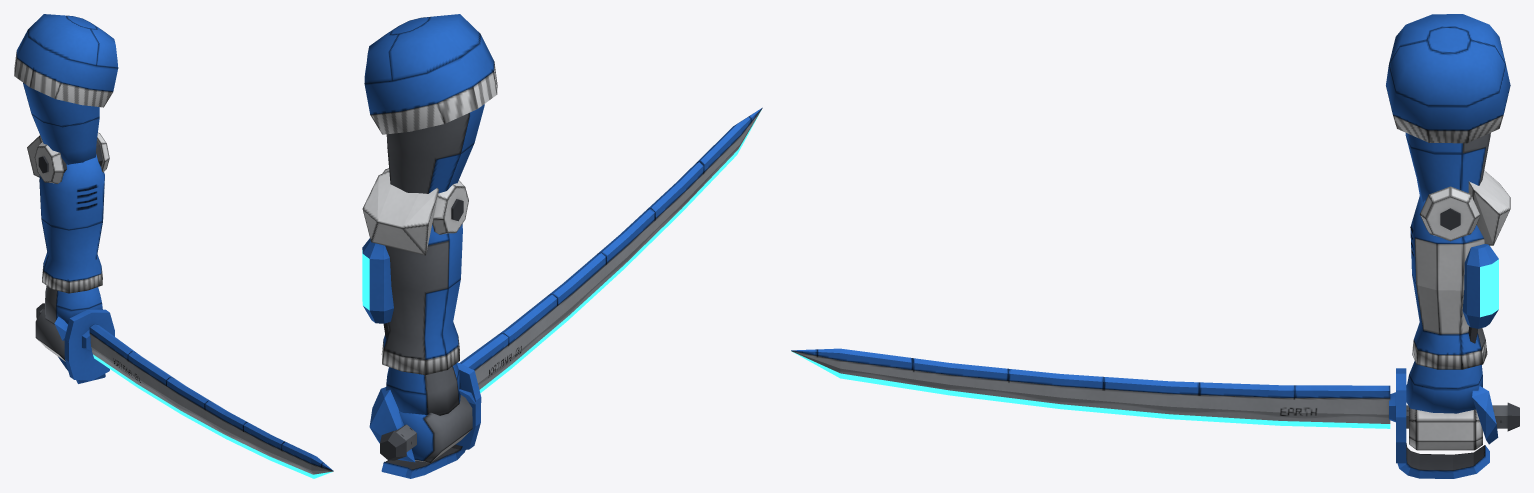
The model's file is RightKatanaSwordArmX.glb.
3 renders of one model, left to right at view 1: azimuth 30°, elevation 25°; view 2: azimuth 150°, elevation 25°; view 3: azimuth 270°, elevation 25°, orthographic. The views are drawn at different scales.
Visible parts, largest first — view 1: RightKatanaSwordArmX_Fist, RightKatanaSwordArmX_Upper, RightKatanaSwordArmX_Fore; view 2: RightKatanaSwordArmX_Fist, RightKatanaSwordArmX_Upper, RightKatanaSwordArmX_Fore; view 3: RightKatanaSwordArmX_Fist, RightKatanaSwordArmX_Upper, RightKatanaSwordArmX_Fore.
Boxes of the visible parts, x1,y1,x2,y2 form: RightKatanaSwordArmX_Fist: (35,286,333,478); RightKatanaSwordArmX_Upper: (14,14,118,164); RightKatanaSwordArmX_Fore: (27,132,109,293); RightKatanaSwordArmX_Fist: (369,107,762,478); RightKatanaSwordArmX_Upper: (364,14,497,193); RightKatanaSwordArmX_Fore: (362,168,468,375); RightKatanaSwordArmX_Fist: (791,348,1519,478); RightKatanaSwordArmX_Upper: (1386,14,1510,202); RightKatanaSwordArmX_Fore: (1410,170,1510,369).
Bounding box in the file's own units: 4.12 × 15.75 × 23.65.
6 materials, 5 textured.
